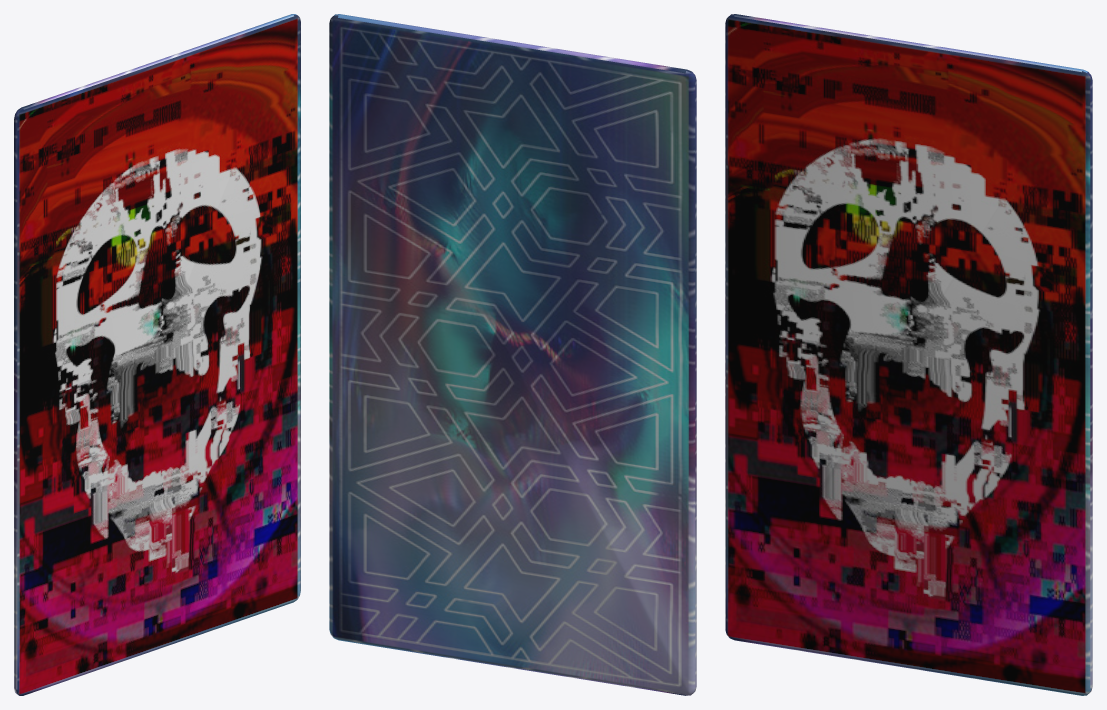
Rendered from tarot_death.fbx.
3 renders of one model, left to right at view 1: azimuth 30°, elevation 25°; view 2: azimuth 150°, elevation 25°; view 3: azimuth 330°, elevation 25°, orthographic. The views are drawn at different scales.
Visible parts, largest first — view 1: Cube; view 2: Cube; view 3: Cube.
Part boxes in pixels (bbox=[...]): Cube: bbox=[14, 14, 300, 695]; Cube: bbox=[329, 14, 696, 695]; Cube: bbox=[725, 14, 1092, 695].
Size of the model in its own units: 190 by 339 by 34.06.
Materials: 1 (1 with a texture image).
